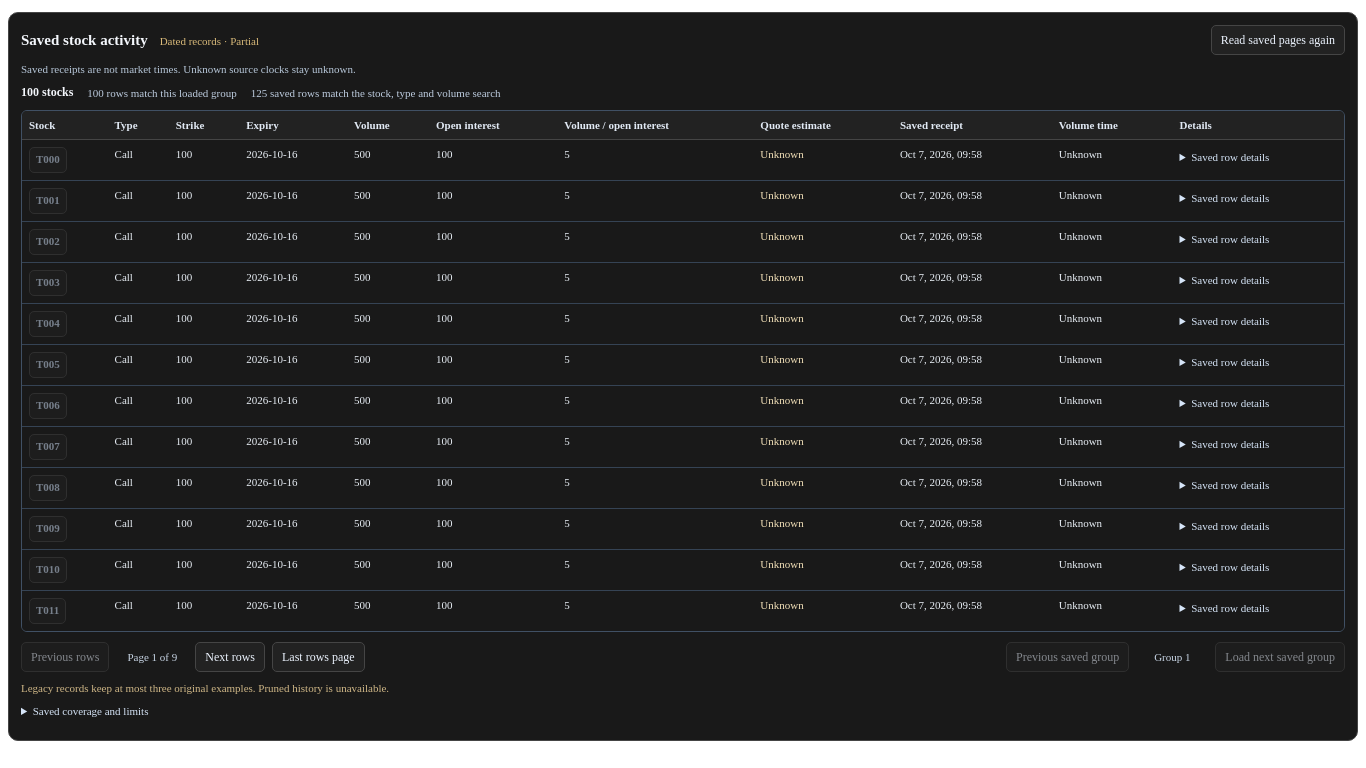
all rows on both server pages remain reachable, including the last of 125 stocks
expect the button named "Open current stock T000" is shown: met, box [29,147,67,173]
expect the button "Load next saved group" is disabled: met, box [1215,642,1345,672]
Click the button "Last rows page": (318, 657) [272,642,365,672]
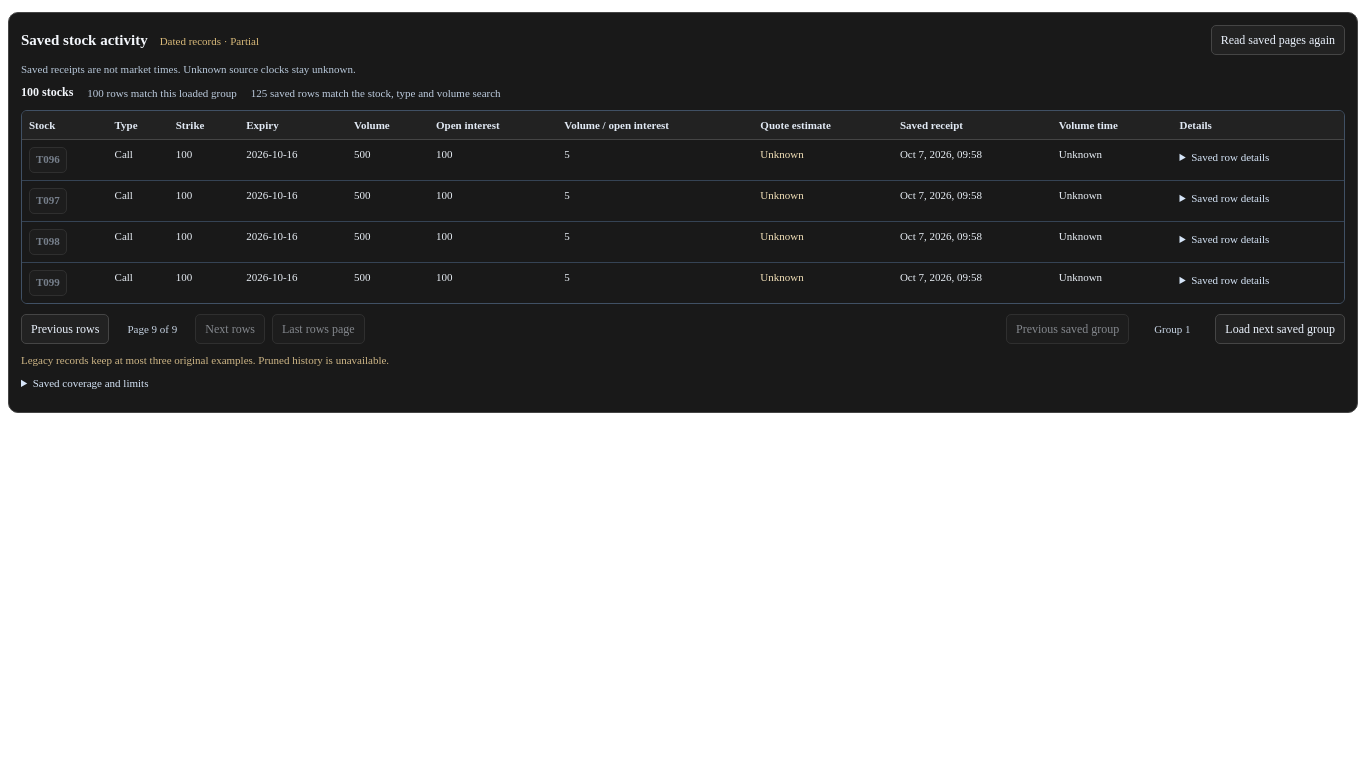
expect the button named "Open current stock T099" is shown: met, box [29,270,67,296]
Click the button "Load next saved group": (1280, 329) [1215,314,1345,344]
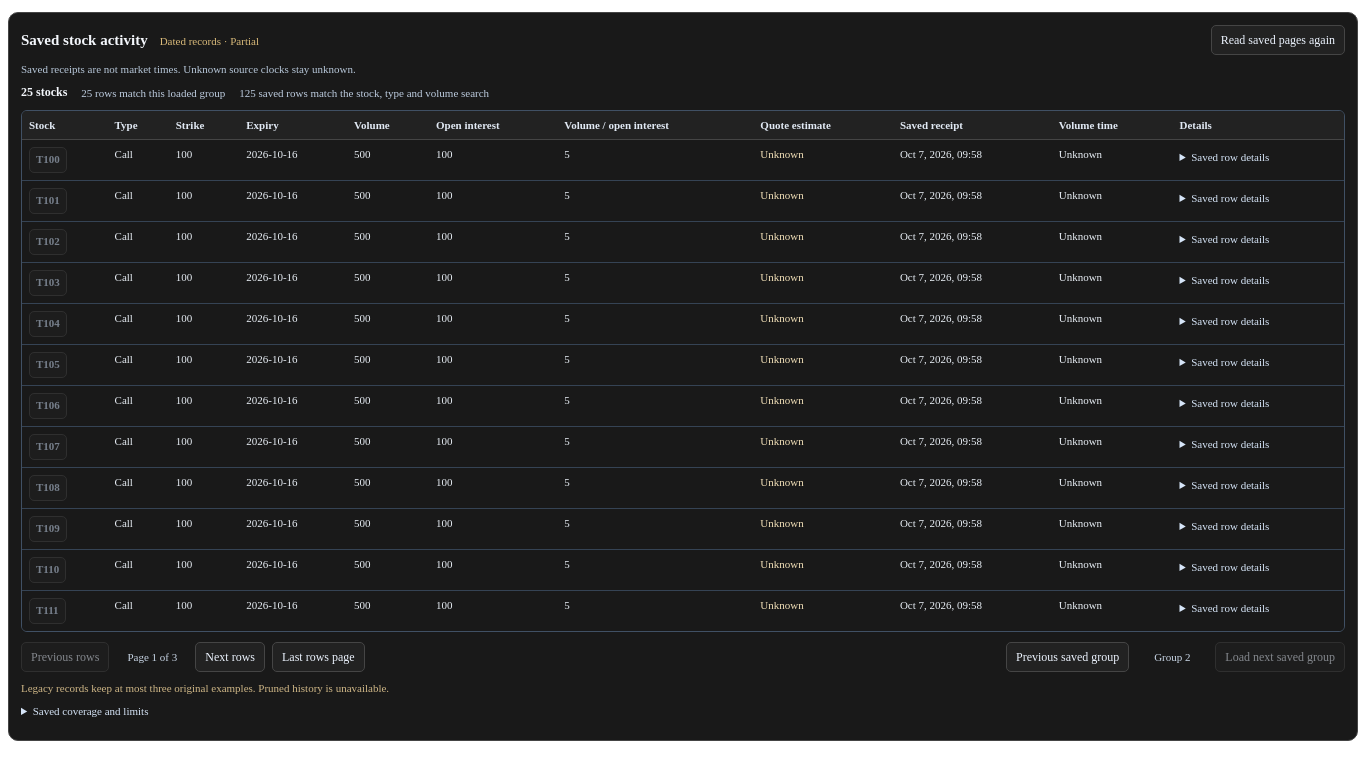
expect the button named "Open current stock T100" is shown: met, box [29,147,67,173]
Click the button "Last rows page": (318, 657) [272,642,365,672]
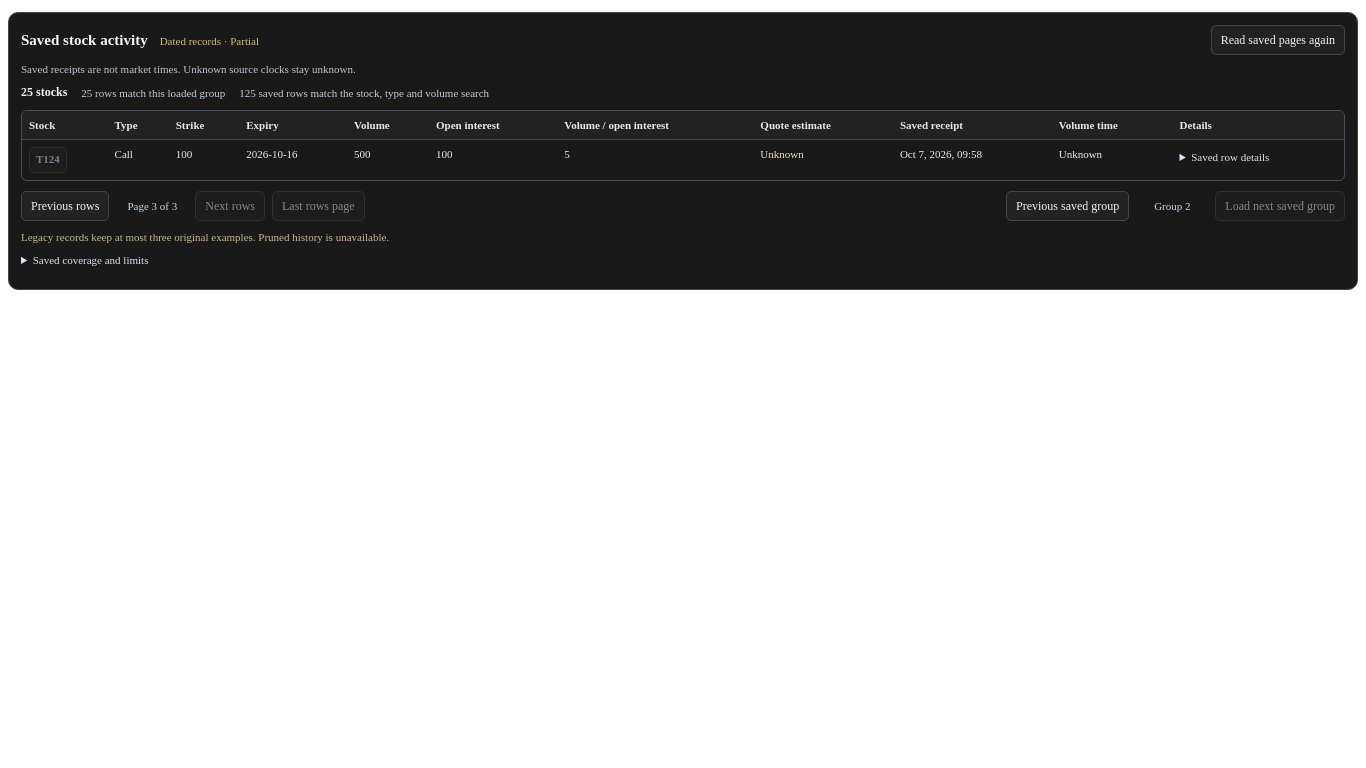
expect the button named "Open current stock T124" is shown: met, box [29,147,67,173]
